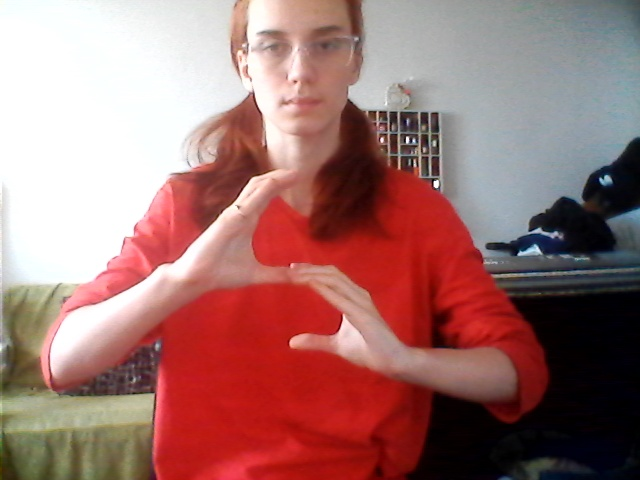s: (186, 157, 396, 387)
